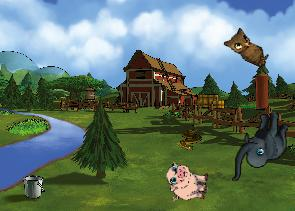elephant: (231, 111, 288, 181)
owl: (221, 24, 275, 68)
pig: (164, 161, 210, 203)
